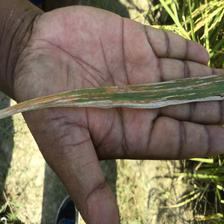2 BacterialBlight: (9, 74, 221, 109)
